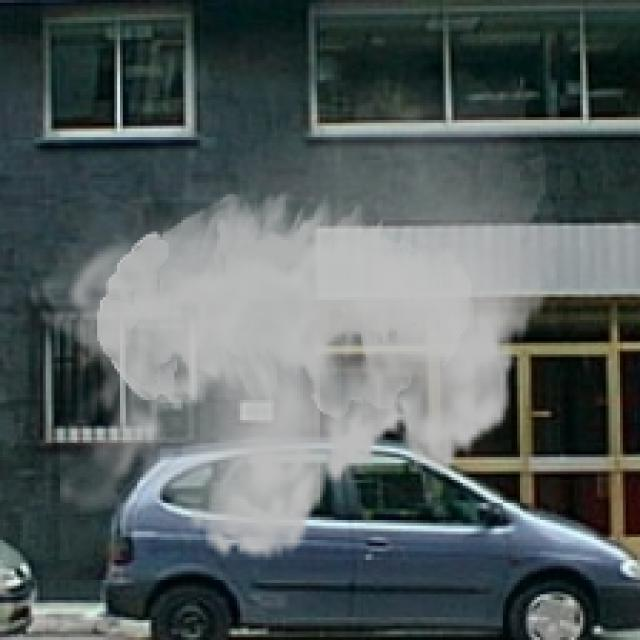smoke: (26, 40, 557, 580)
